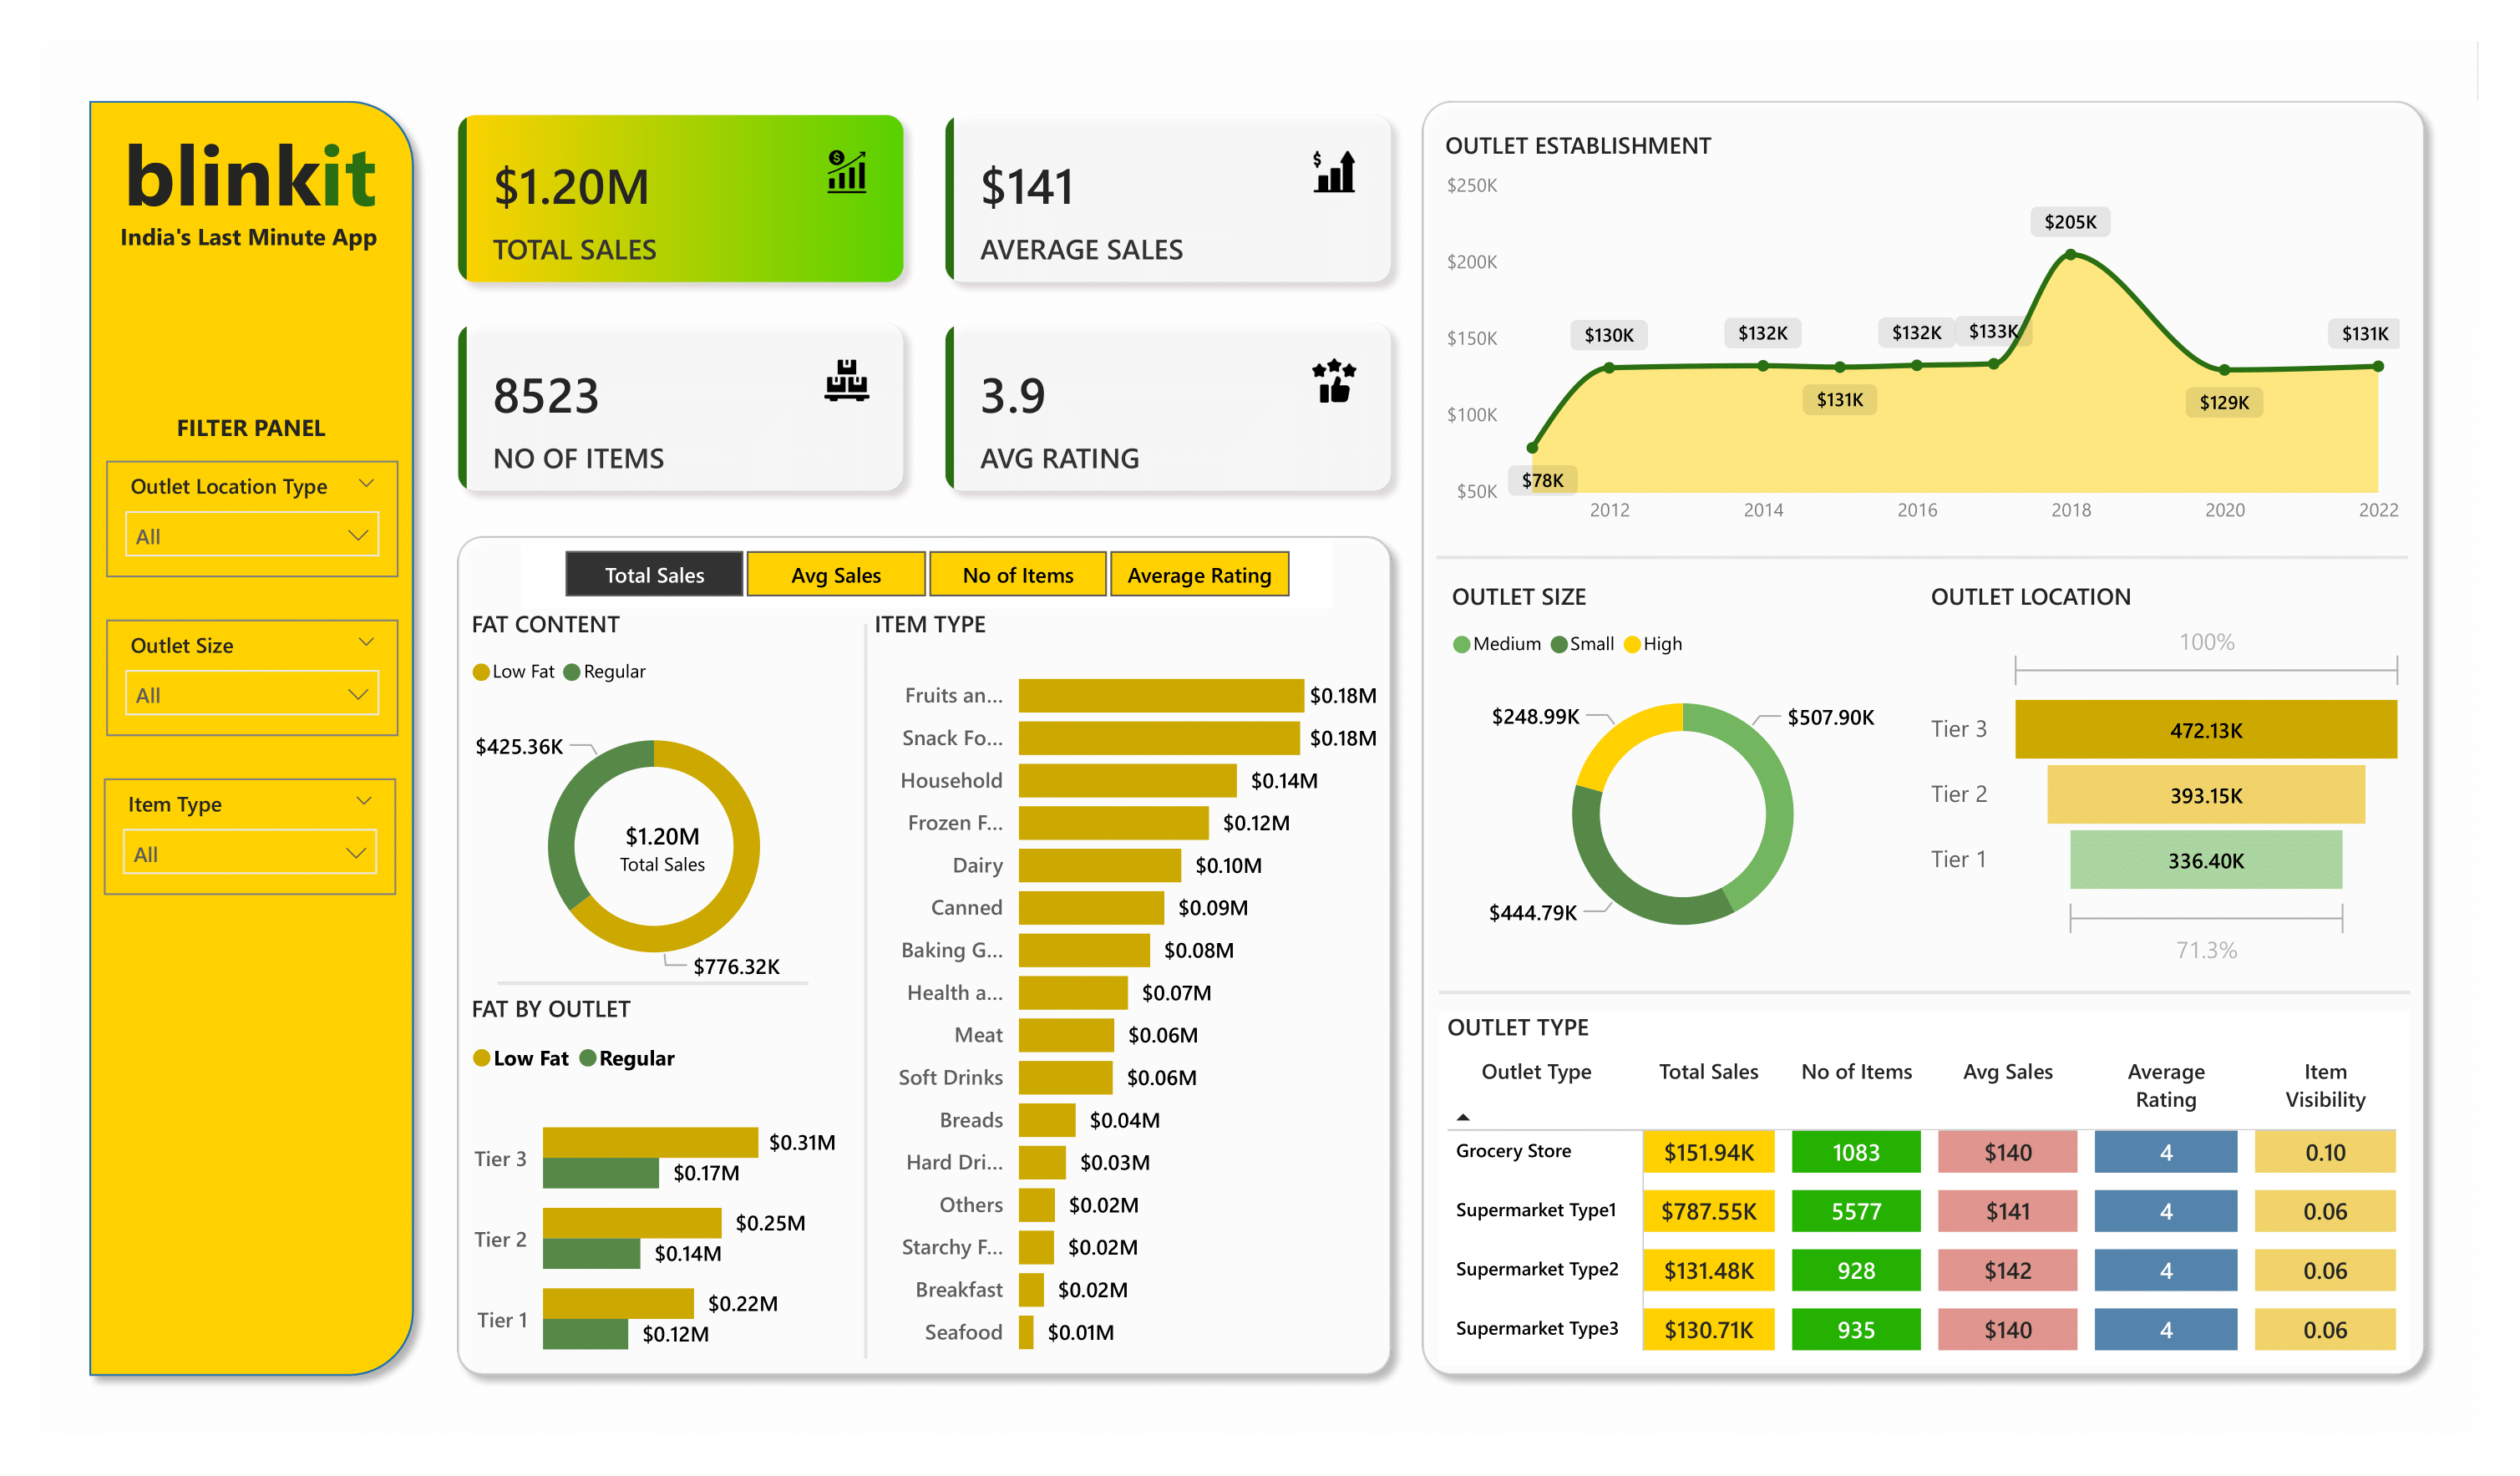

This screenshot's page, from the dashboard's own definition file:
{"tool":"powerbi","page":{"name":"Page 1","canvas":[1400,800],"ordinal":0},"visuals":[{"type":"shape","box":[18,25.5,204.1,750.4],"z":0},{"type":"textbox","box":[36,37.5,168.1,76.5],"z":1000},{"type":"textbox","box":[36,97.6,166.6,33],"z":2000},{"type":"cardVisual","fields":{"Data":["BlinkIT Grocery Data.Total Sales","BlinkIT Grocery Data.Avg Sales","BlinkIT Grocery Data.No of Items","BlinkIT Grocery Data.Average Rating"]},"box":[222.2,25.1,570.1,250],"z":3000},{"type":"shape","box":[230.2,275.1,554.2,500],"z":4000},{"type":"donutChart","title":"FAT CONTENT","fields":{"Y":["BlinkIT Grocery Data.Total Sales"],"Category":["BlinkIT Grocery Data.Item Fat Content"]},"box":[242.1,325.4,219.6,230.2],"z":5000},{"type":"slicer","fields":{"Values":["Metrics.Metrics"]},"box":[275.1,285.7,465.6,39.7],"z":6000},{"type":"cardVisual","fields":{"Data":["BlinkIT Grocery Data.Total Sales"]},"box":[292.3,411.4,129.6,104.5],"z":7000},{"type":"clusteredBarChart","title":"FAT BY OUTLET","fields":{"Y":["BlinkIT Grocery Data.Total Sales"],"Category":["BlinkIT Grocery Data.Outlet Location Type"],"Series":["BlinkIT Grocery Data.Item Fat Content"]},"box":[242.1,546.3,219.6,230.2],"z":8000},{"type":"shape","box":[261.9,525.1,178.6,31.7],"z":9000},{"type":"shape","box":[466.9,334.7,13.2,422],"z":10000},{"type":"barChart","title":"ITEM TYPE","fields":{"Y":["BlinkIT Grocery Data.Total Sales"],"Category":["BlinkIT Grocery Data.Item Type"]},"box":[473.5,325.4,298.9,440.5],"z":11000},{"type":"shape","box":[784.4,25.1,593.9,750],"z":12000},{"type":"lineChart","title":"OUTLET ESTABLISHMENT","fields":{"Category":["BlinkIT Grocery Data.Outlet Establishment Year"],"Y":["BlinkIT Grocery Data.Total Sales"]},"box":[801.6,50.3,558.2,235.5],"z":13000},{"type":"shape","box":[801.6,287,558.2,18.5],"z":14000},{"type":"donutChart","title":"OUTLET SIZE","fields":{"Y":["BlinkIT Grocery Data.Total Sales"],"Category":["BlinkIT Grocery Data.Outlet Size"]},"box":[805,309,275.1,224.9],"z":15000},{"type":"funnel","title":"OUTLET LOCATION","fields":{"Y":["Sum(BlinkIT Grocery Data.Sales)"],"Category":["BlinkIT Grocery Data.Outlet Location Type"]},"box":[1080.7,309.5,283.1,227.5],"z":16000},{"type":"shape","box":[802.9,537,558.2,18.5],"z":17000},{"type":"pivotTable","title":"OUTLET TYPE","fields":{"Rows":["BlinkIT Grocery Data.Outlet Type"],"Values":["BlinkIT Grocery Data.Total Sales","BlinkIT Grocery Data.No of Items","BlinkIT Grocery Data.Avg Sales","BlinkIT Grocery Data.Average Rating","Avg(BlinkIT Grocery Data.Item Visibility)"]},"box":[802.9,556.9,558.2,203.7],"z":18000},{"type":"slicer","fields":{"Values":["BlinkIT Grocery Data.Outlet Location Type"]},"box":[37,240.7,168,67.5],"z":19000},{"type":"slicer","fields":{"Values":["BlinkIT Grocery Data.Outlet Size"]},"box":[37,332,168,67.5],"z":20000},{"type":"slicer","fields":{"Values":["BlinkIT Grocery Data.Item Type"]},"box":[35.7,423.3,168,67.5],"z":21000},{"type":"textbox","box":[37,207.7,166.7,33.1],"z":22000},{"type":"textbox","box":[35.7,642.9,166.7,33.1],"z":23000},{"type":"textbox","box":[38.4,675.9,166.7,33.1],"z":24000}]}

Visuals, with their boxes in screenshot pixels (x1, y1, x2, y2):
shape: <region>74, 86, 428, 1392</region>
textbox: <region>104, 107, 397, 241</region>
textbox: <region>104, 211, 394, 269</region>
cardVisual - BlinkIT Grocery Data.Total Sales x BlinkIT Grocery Data.Avg Sales: <region>428, 85, 1421, 520</region>
shape: <region>443, 520, 1407, 1391</region>
"FAT CONTENT" donutChart: <region>463, 608, 845, 1009</region>
slicer - Metrics.Metrics: <region>520, 539, 1331, 608</region>
cardVisual - BlinkIT Grocery Data.Total Sales: <region>550, 758, 776, 940</region>
"FAT BY OUTLET" clusteredBarChart: <region>463, 992, 845, 1393</region>
shape: <region>498, 956, 809, 1011</region>
shape: <region>854, 624, 877, 1359</region>
"ITEM TYPE" barChart: <region>866, 608, 1386, 1375</region>
shape: <region>1407, 85, 2441, 1391</region>
"OUTLET ESTABLISHMENT" lineChart: <region>1437, 129, 2408, 540</region>
shape: <region>1437, 541, 2408, 574</region>
"OUTLET SIZE" donutChart: <region>1443, 580, 1921, 971</region>
"OUTLET LOCATION" funnel: <region>1923, 581, 2416, 976</region>
shape: <region>1439, 976, 2411, 1009</region>
"OUTLET TYPE" pivotTable: <region>1439, 1011, 2411, 1366</region>
slicer - BlinkIT Grocery Data.Outlet Location Type: <region>106, 461, 398, 578</region>
slicer - BlinkIT Grocery Data.Outlet Size: <region>106, 620, 398, 737</region>
slicer - BlinkIT Grocery Data.Item Type: <region>104, 779, 396, 896</region>
textbox: <region>106, 403, 396, 461</region>
textbox: <region>104, 1161, 394, 1219</region>
textbox: <region>109, 1218, 398, 1276</region>
